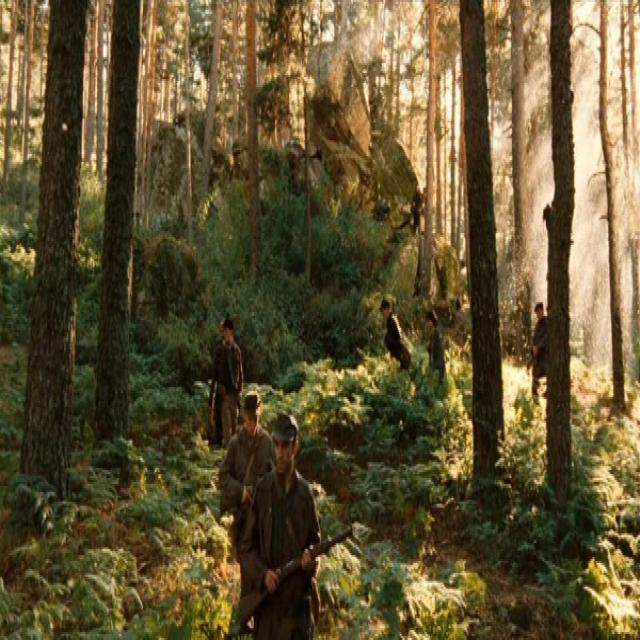rifle: (232, 523, 359, 631)
